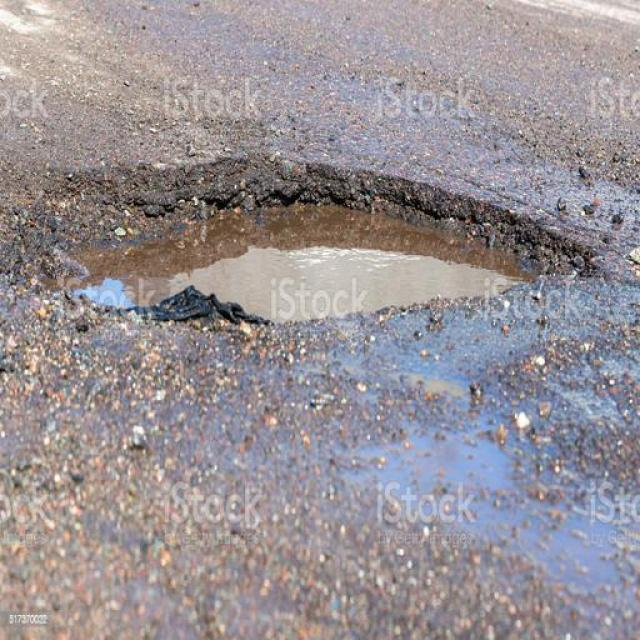puddle: (125, 212, 475, 307)
